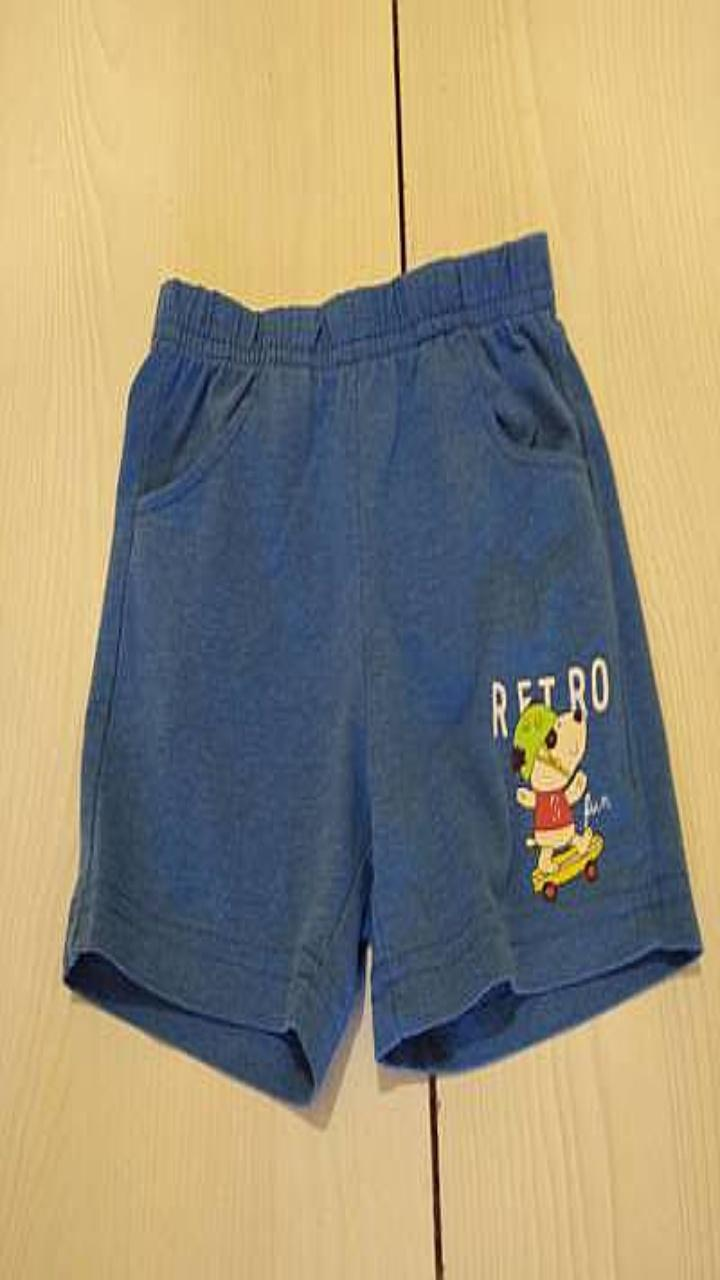Shorts: (63, 232, 702, 1103)
